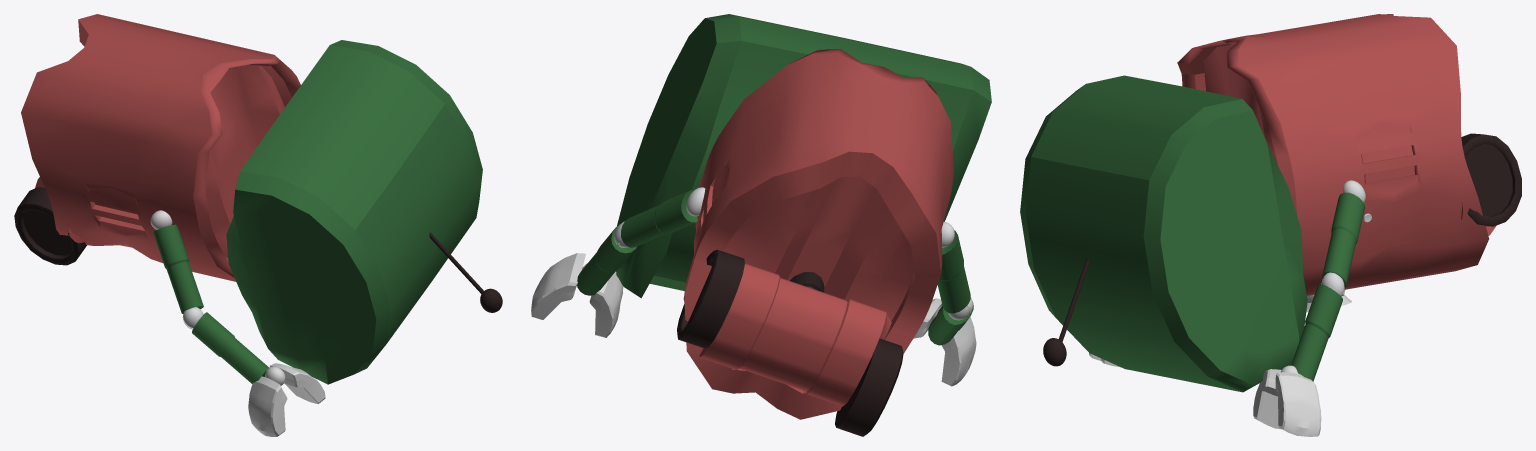
Rendered from Sam Dying2.fbx.
3 views of the same model, side by side, from view 1: azimuth 30°, elevation 25°; view 2: azimuth 150°, elevation 25°; view 3: azimuth 270°, elevation 25° (orthographic). The views are drawn at different scales.
Visible parts, largest first — view 1: polySurface2, Chest, Wheels_2, RightArm4, RightArm5, RightHand_4, RightHand_3; view 2: Chest, polySurface2, Hips2, Wheels_1, Wheels_2, RightArm9, RightHand_5, RightArm4, RightArm8, RightHand_4, RightHand_6, RightArm5; view 3: polySurface2, Chest, Wheels_1, RightArm8, RightHand_5, RightArm9, RightHand_6, AntinaBall.
Part boxes in pixels (<box>): polySurface2: <box>226,40,482,384</box>; Chest: <box>21,14,300,281</box>; Wheels_2: <box>14,187,86,265</box>; RightArm4: <box>153,224,203,313</box>; RightArm5: <box>192,312,269,383</box>; RightHand_4: <box>248,376,287,436</box>; RightHand_3: <box>270,363,325,403</box>; Chest: <box>684,49,953,419</box>; polySurface2: <box>616,14,991,298</box>; Hips2: <box>683,263,891,406</box>; Wheels_1: <box>677,249,744,348</box>; Wheels_2: <box>835,338,903,436</box>; RightArm9: <box>621,190,697,247</box>; RightHand_5: <box>531,253,585,319</box>; RightArm4: <box>937,230,970,313</box>; RightArm8: <box>577,224,636,295</box>; RightHand_4: <box>941,316,976,386</box>; RightHand_6: <box>589,271,623,337</box>; RightArm5: <box>928,303,973,345</box>; polySurface2: <box>1020,75,1307,392</box>; Chest: <box>1177,14,1488,295</box>; Wheels_1: <box>1461,133,1521,226</box>; RightArm8: <box>1291,284,1342,381</box>; RightHand_5: <box>1275,372,1321,436</box>; RightArm9: <box>1322,192,1364,288</box>; RightHand_6: <box>1253,369,1281,429</box>; AntinaBall: <box>1043,338,1066,366</box>.
Size of the model in its own units: 75.45 by 58.23 by 79.16.
